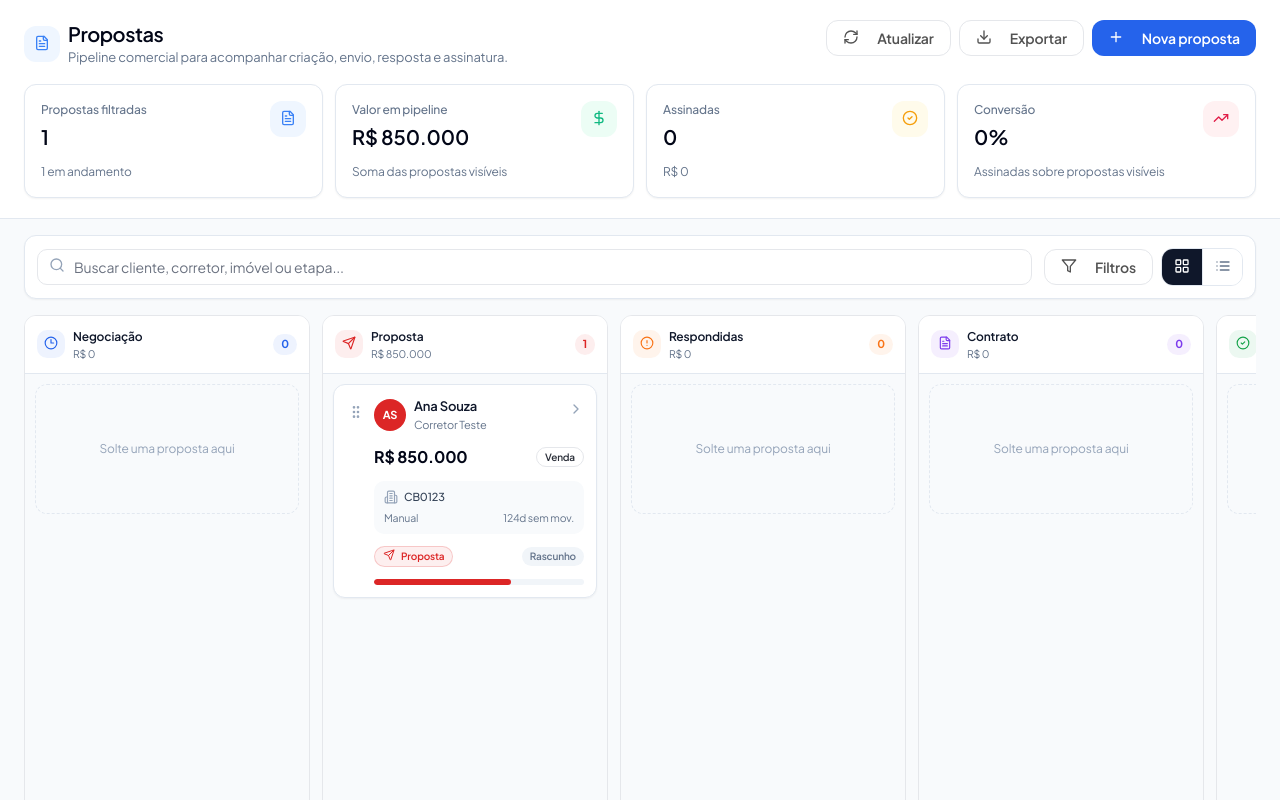
Test case: PropostaPage — abrir e fechar dialogs › abre o detalhe de uma proposta, fecha e reabre sem quebrar
The width and height of the screenshot is (1280, 800).
Click the text "Ana Souza".
click(450, 407)  # box [414, 397, 486, 417]
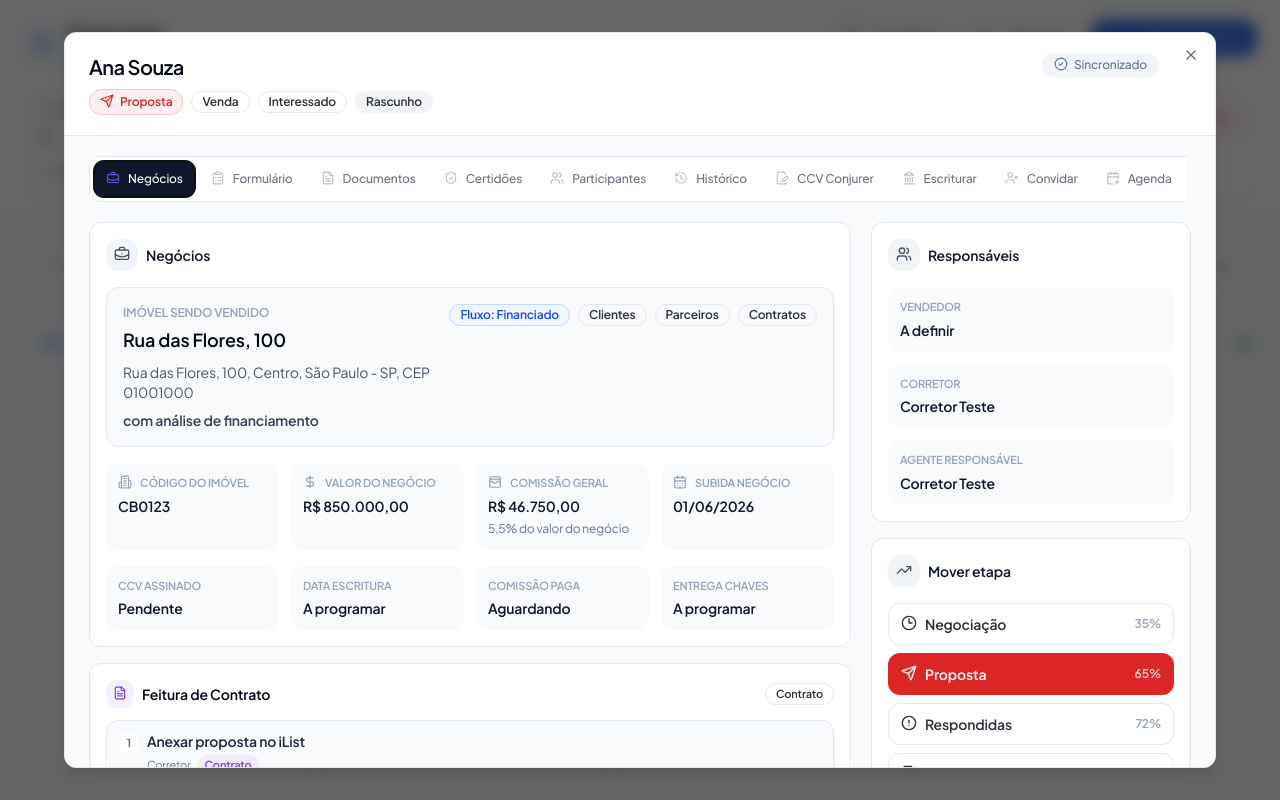
Expected: the dialog is shown
Press Escape
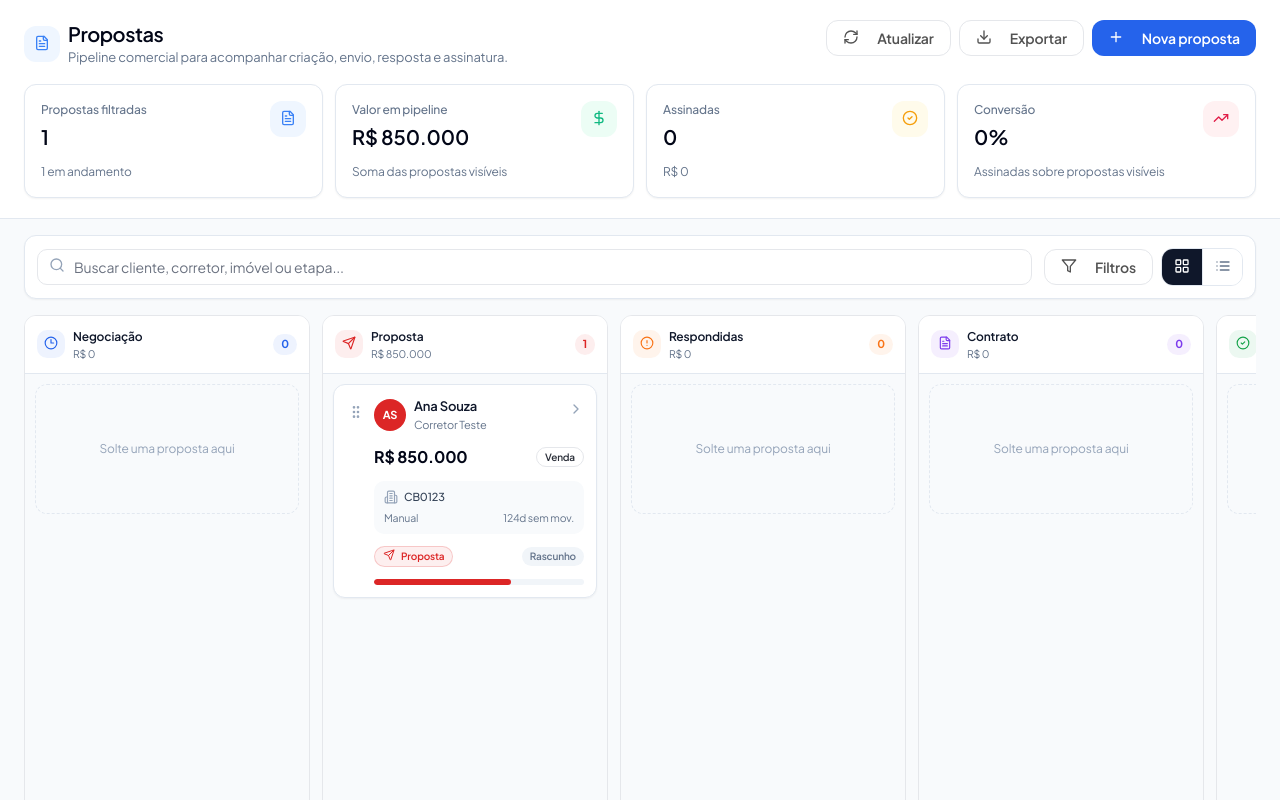
Expected: the button "Nova proposta" is shown, [1092, 20, 1256, 56]
Expected: the dialog is gone
Click the text "Ana Souza".
click(450, 407)  # box [414, 397, 486, 417]
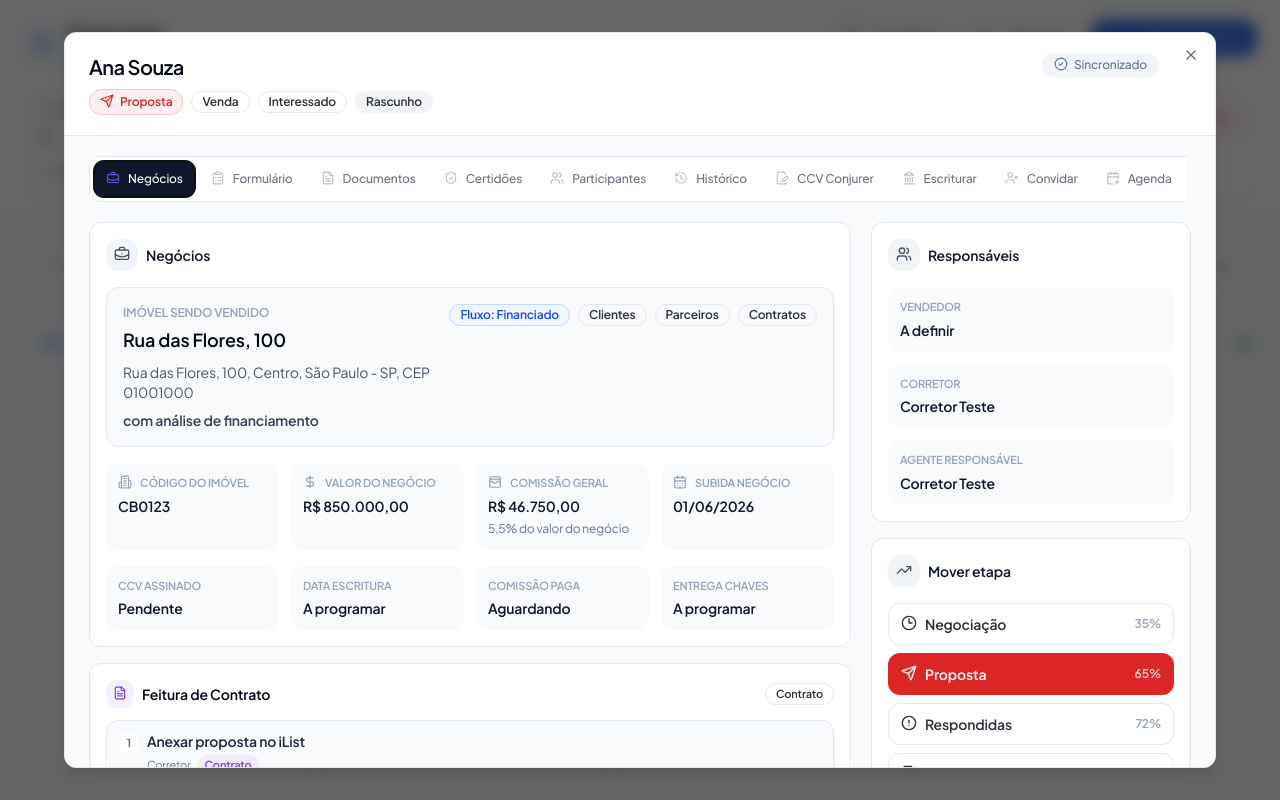
Expected: the dialog is shown
Press Escape
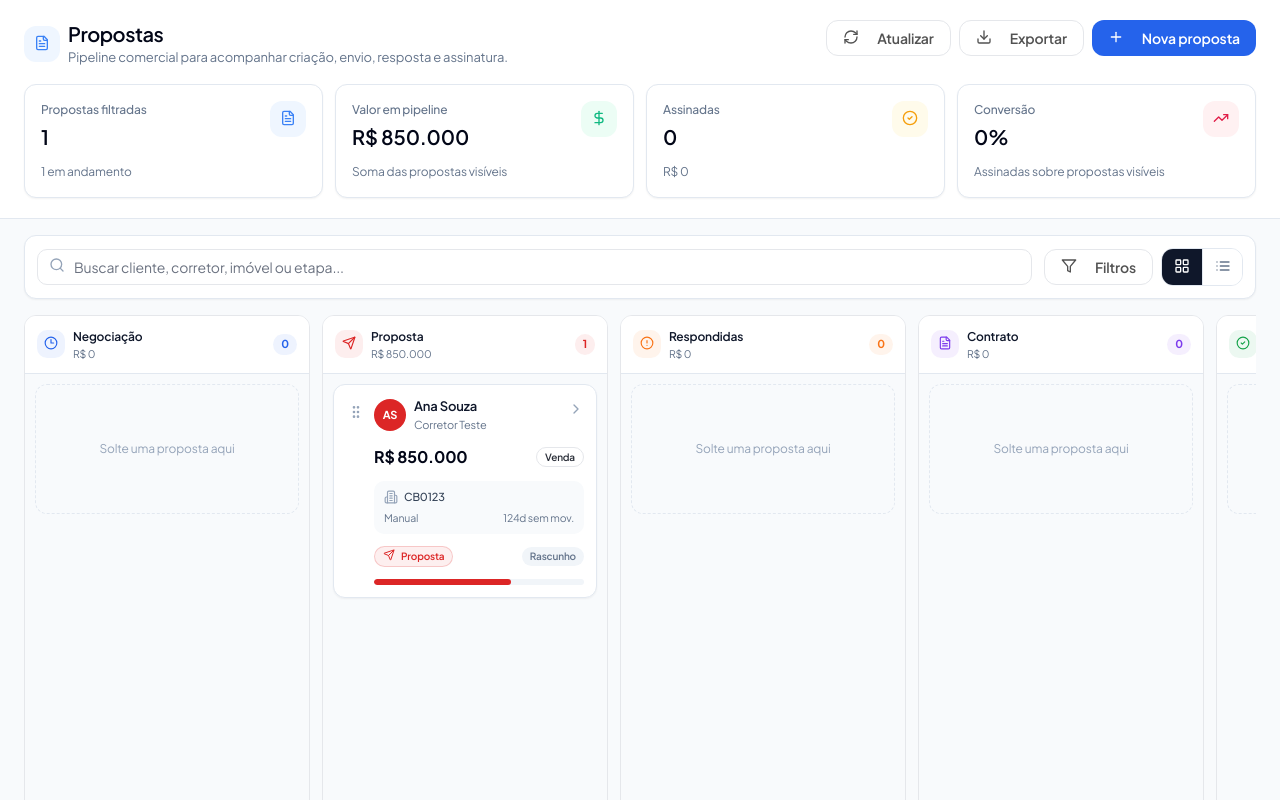
Expected: the dialog is gone
